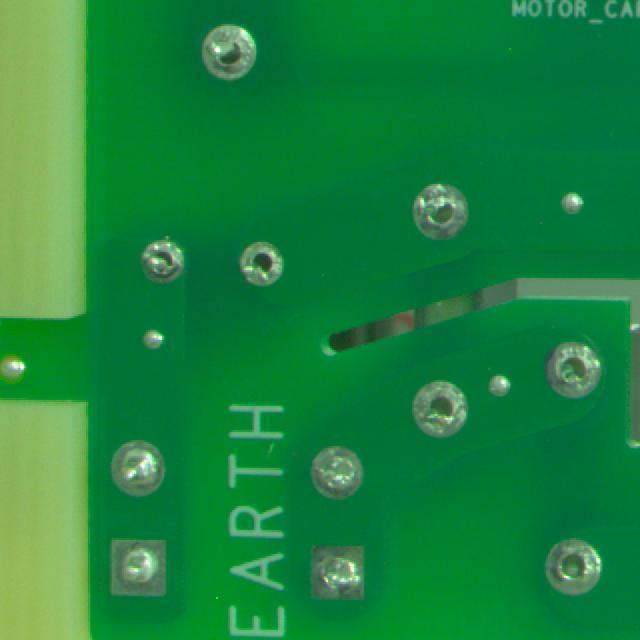Insufficient solder: (90, 526, 186, 620), (396, 371, 477, 452), (296, 532, 373, 605), (195, 16, 268, 92), (107, 436, 190, 500), (404, 177, 477, 249), (300, 434, 372, 504), (544, 533, 606, 603), (544, 332, 603, 404), (134, 230, 192, 294), (235, 233, 291, 294)
